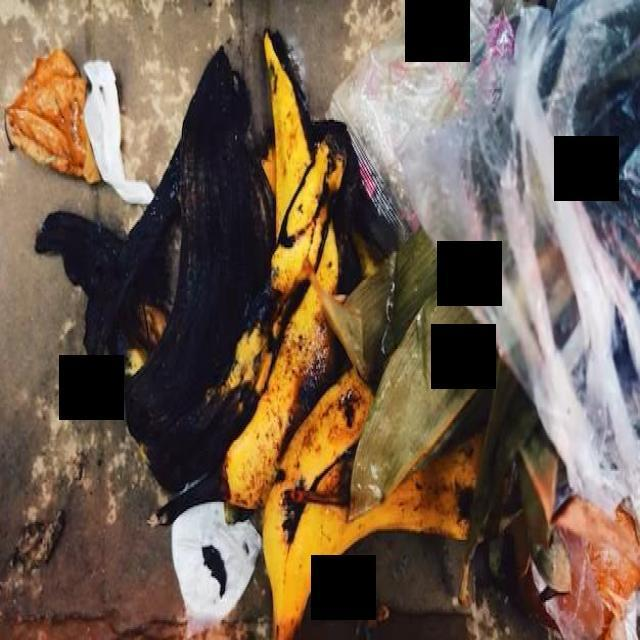Garbage: (0, 1, 640, 640)
contaminated_waste: (329, 0, 640, 557)
